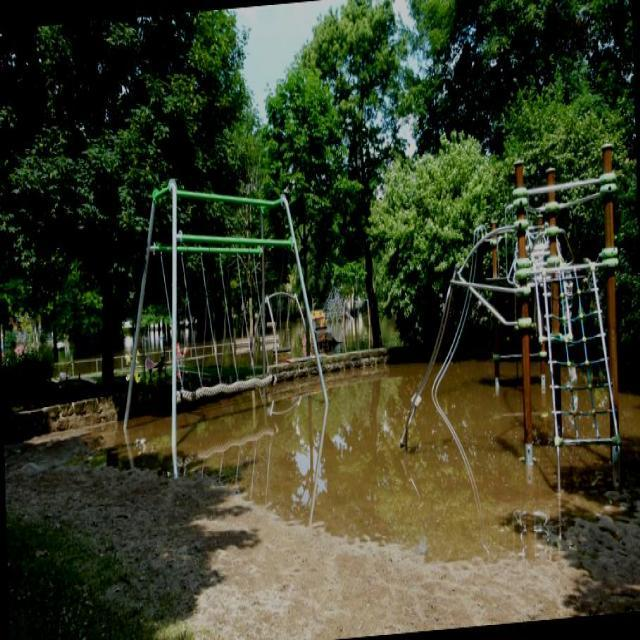flood: (117, 347, 639, 590)
